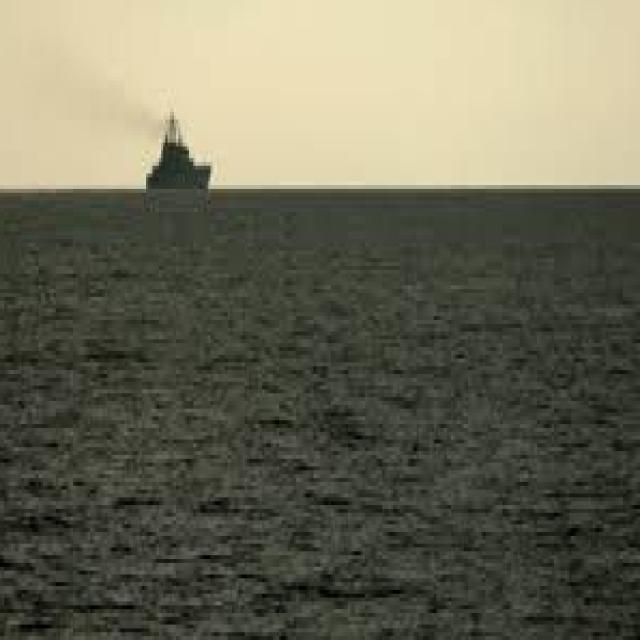cargoship: (138, 108, 221, 207)
